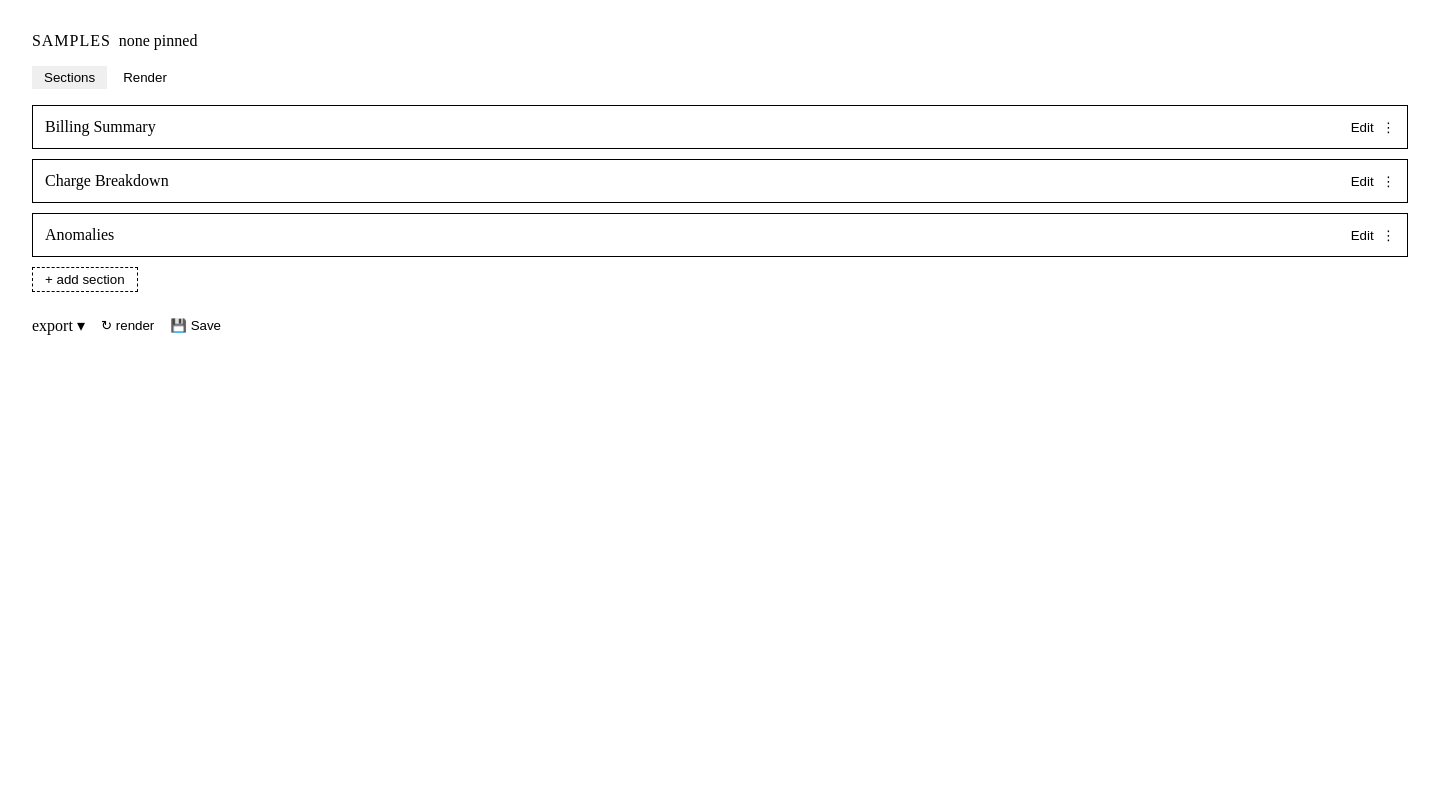
Test: SmartReportBuilder — rewrite + preview (agentic-template-item-editor) › rewrite proposes a new question; Accept applies it (name never changes)
Click the button with test id "report-builder-edit-billing_summary": (1362, 127) top-left (1351, 120), bottom-right (1374, 134)
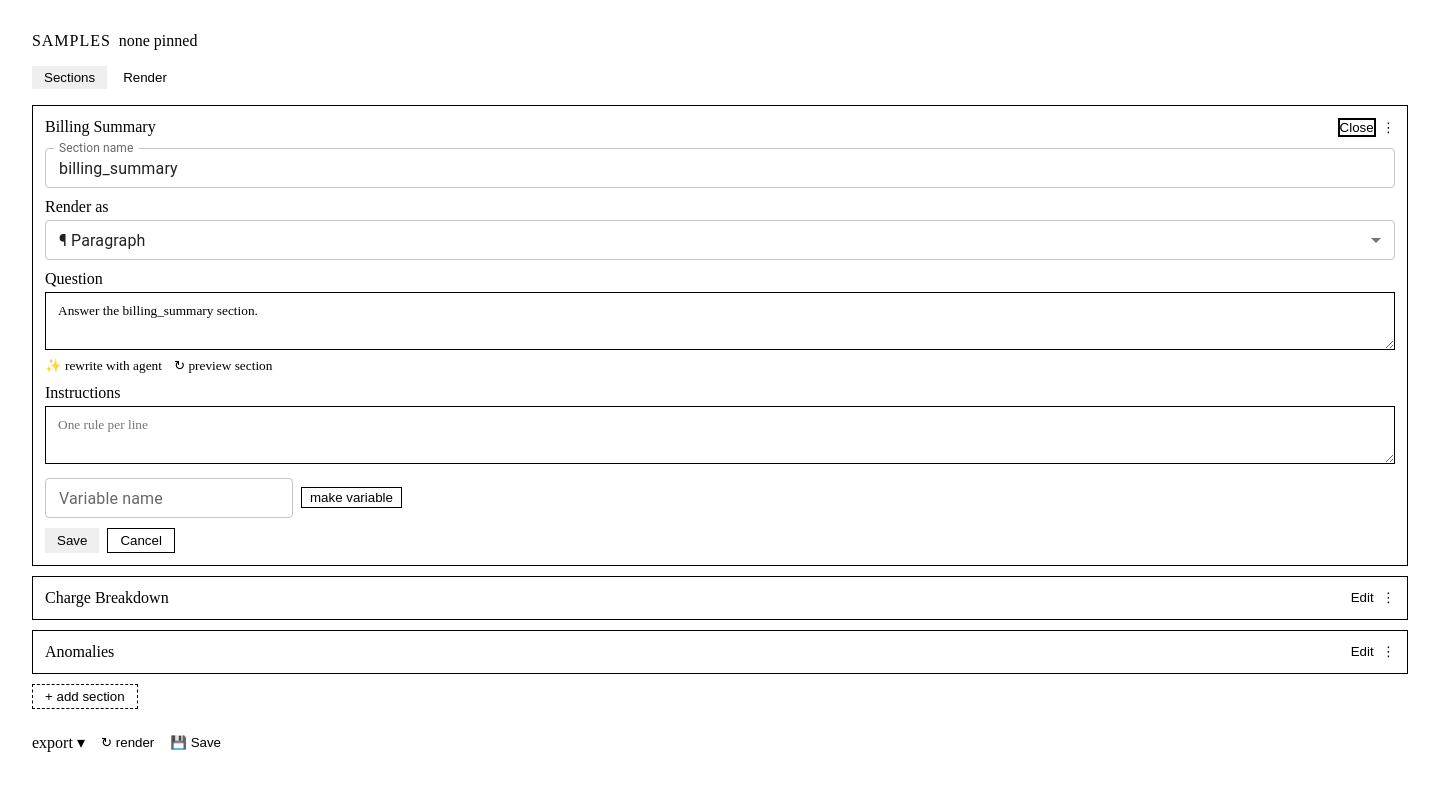
Click the button with test id "report-builder-rewrite-billing_summary": (103, 366) top-left (45, 358), bottom-right (162, 374)
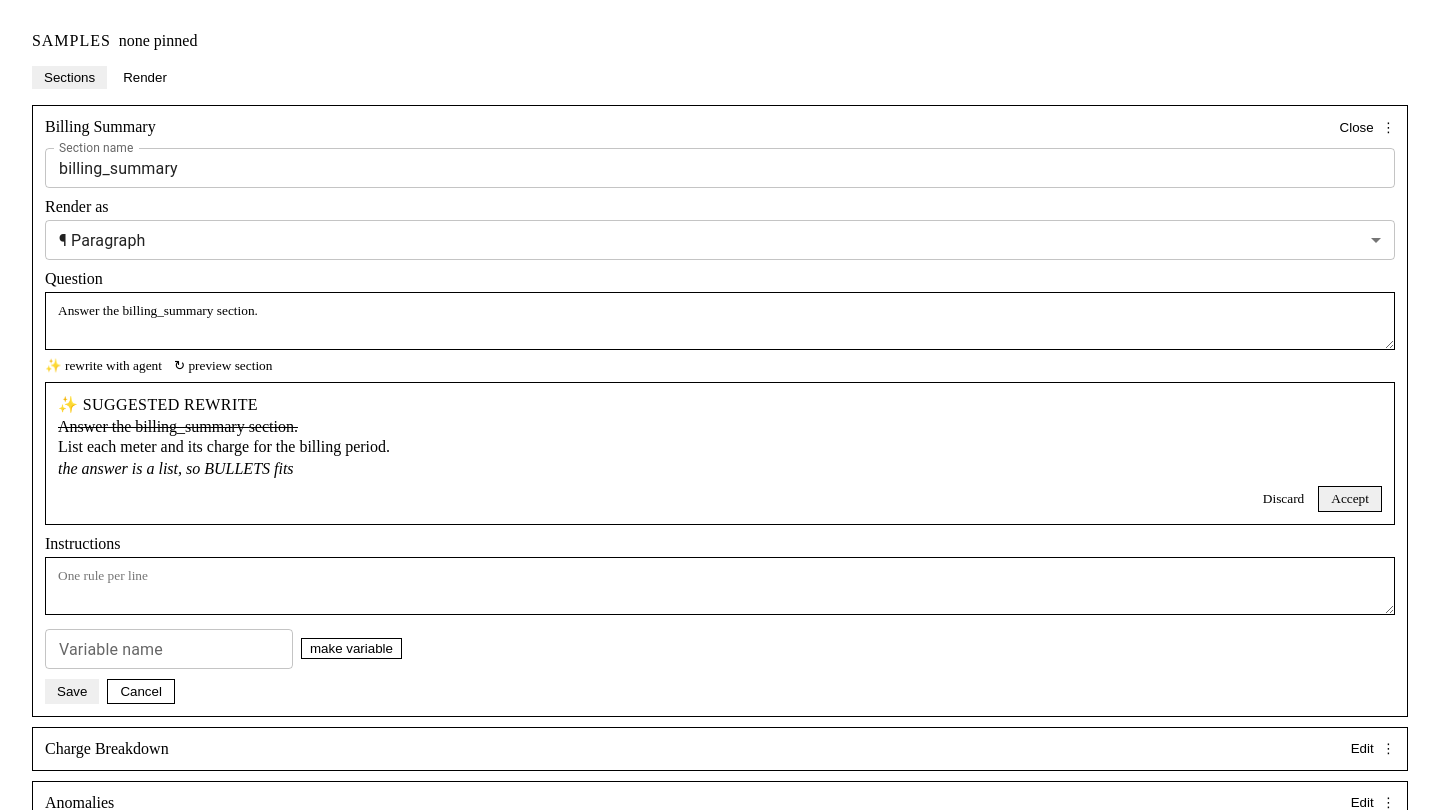
Expected: the element with test id "report-builder-rewrite-proposal-billing_summary" shows "List each meter and its charge", top-left (58, 438), bottom-right (390, 455)
Click the button with test id "report-builder-rewrite-accept-billing_summary": (1350, 499) top-left (1318, 486), bottom-right (1382, 512)
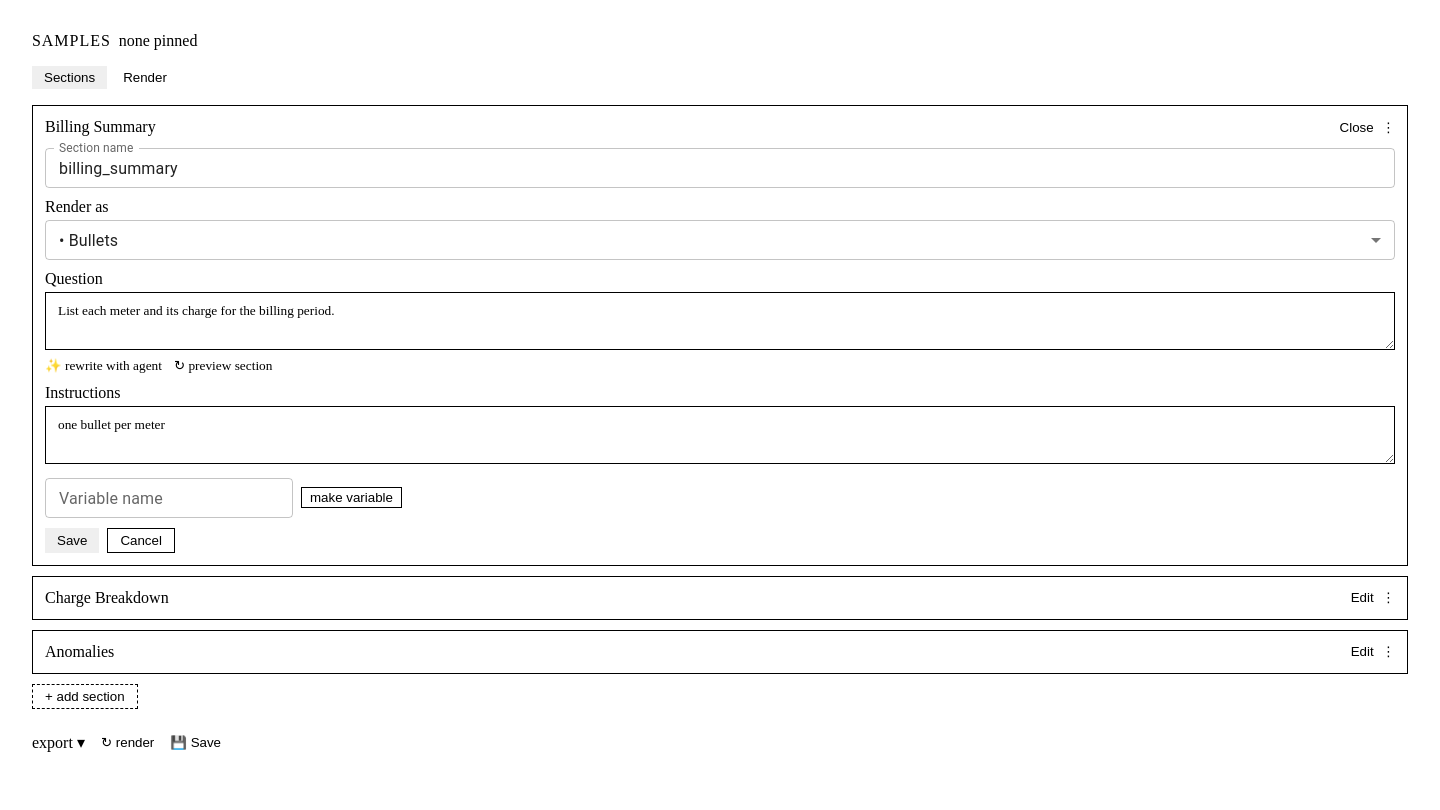
Expected: the text box with id "report-builder-question-input-billing_summary" holds "List each meter and its charge for the billing period.", top-left (45, 292), bottom-right (1395, 350)
Expected: the element with test id "report-builder-rewrite-proposal-billing_summary" is gone
